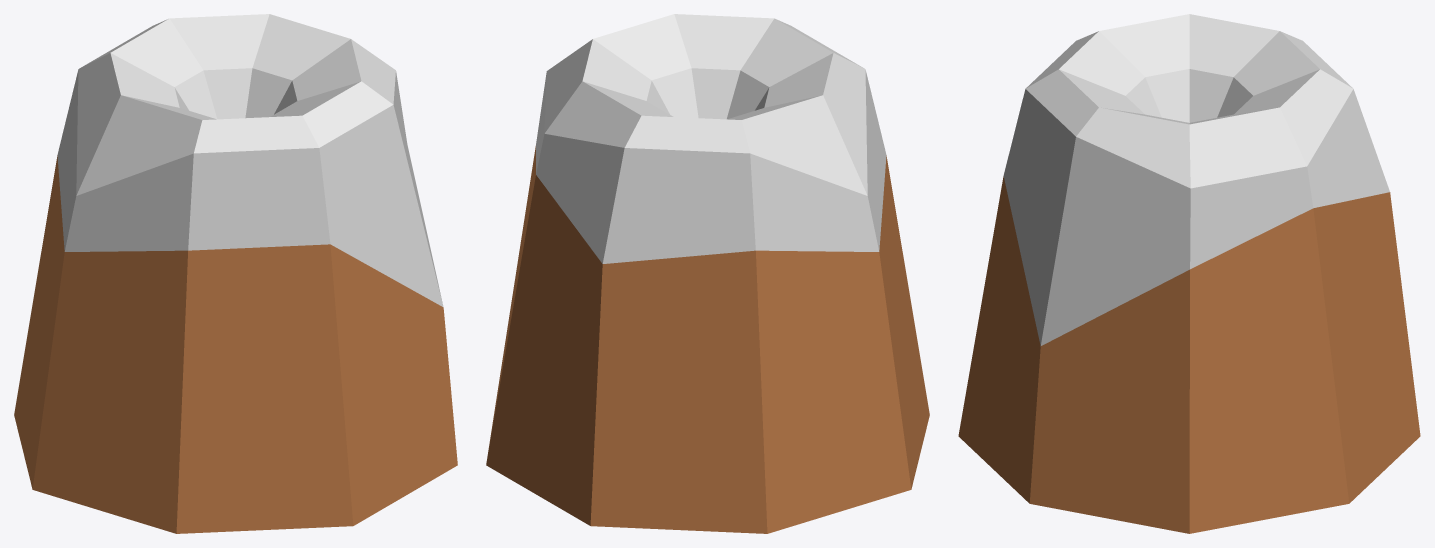
File: SweetRoll.fbx
3 views of the same model, side by side, from view 1: azimuth 30°, elevation 25°; view 2: azimuth 150°, elevation 25°; view 3: azimuth 270°, elevation 25° (orthographic).
Visible parts, largest first — view 1: Sweetroll; view 2: Sweetroll; view 3: Sweetroll.
Part boxes in pixels (box(x1,y1,x2,y2)): Sweetroll: box(14, 14, 457, 533); Sweetroll: box(486, 14, 929, 533); Sweetroll: box(958, 14, 1420, 533).
Size of the model in its own units: 28.92 by 25.35 by 28.92.
